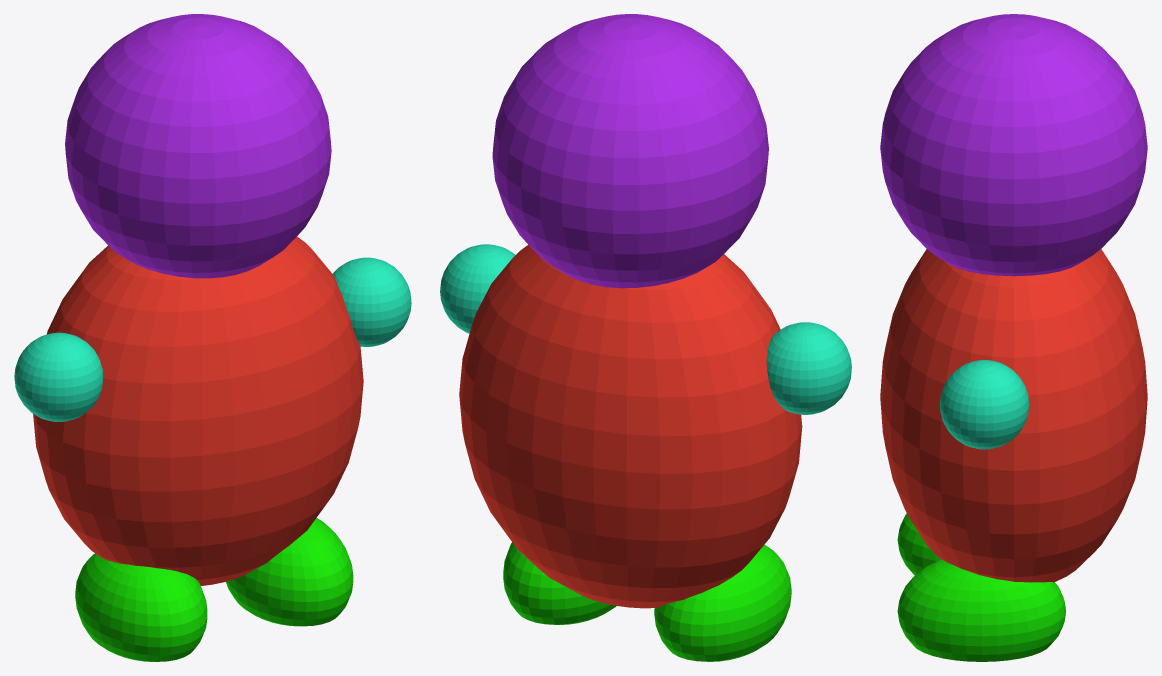
File: player_walk.gltf
3 renders of one model, left to right at view 1: azimuth 30°, elevation 25°; view 2: azimuth 150°, elevation 25°; view 3: azimuth 270°, elevation 25°, orthographic. The views are drawn at different scales.
Parts seen in each view (by area): view 1: Sphere.001, Sphere, Sphere.002, Sphere.003, Sphere.005, Sphere.004; view 2: Sphere.001, Sphere, Sphere.002, Sphere.005, Sphere.003, Sphere.004; view 3: Sphere.001, Sphere, Sphere.003, Sphere.004, Sphere.002.
Boxes of the visible parts, x1,y1,x2,y2 form: Sphere.001: (33, 236, 363, 585); Sphere: (65, 14, 331, 278); Sphere.002: (75, 553, 207, 661); Sphere.003: (226, 518, 353, 626); Sphere.005: (14, 332, 102, 421); Sphere.004: (333, 257, 411, 346); Sphere.001: (459, 244, 802, 608); Sphere: (492, 14, 768, 288); Sphere.002: (654, 544, 791, 661); Sphere.005: (766, 322, 851, 414); Sphere.003: (503, 542, 616, 624); Sphere.004: (440, 244, 515, 333); Sphere.001: (880, 249, 1147, 582); Sphere: (880, 14, 1147, 276); Sphere.003: (897, 559, 1066, 661); Sphere.004: (939, 360, 1029, 449); Sphere.002: (897, 513, 940, 575).
Size of the model in its own units: 3.33 by 4.83 by 2.
